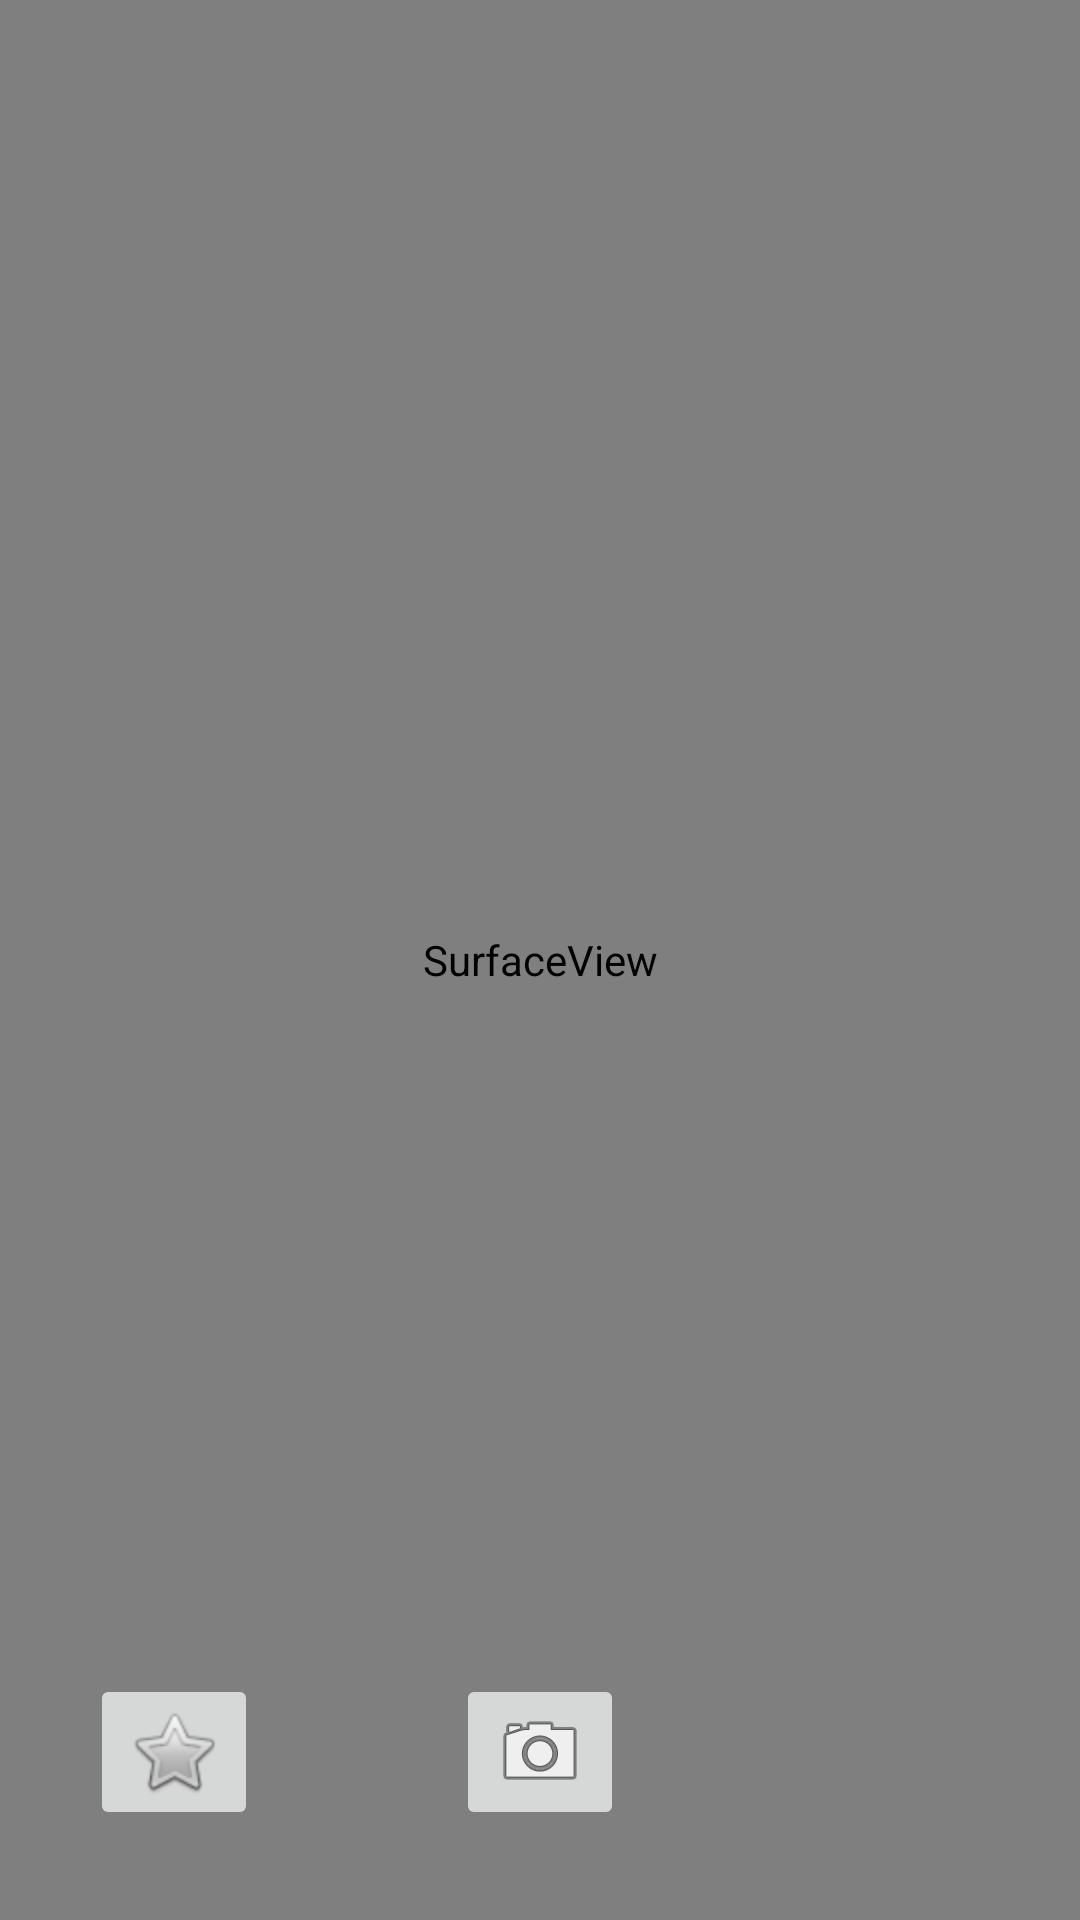

Named icons in this screenshot (1080x1920) and their bounding boxes, (x1, y1, x2, y2):
camera: (468, 1692, 612, 1812)
star: (102, 1692, 246, 1812)
